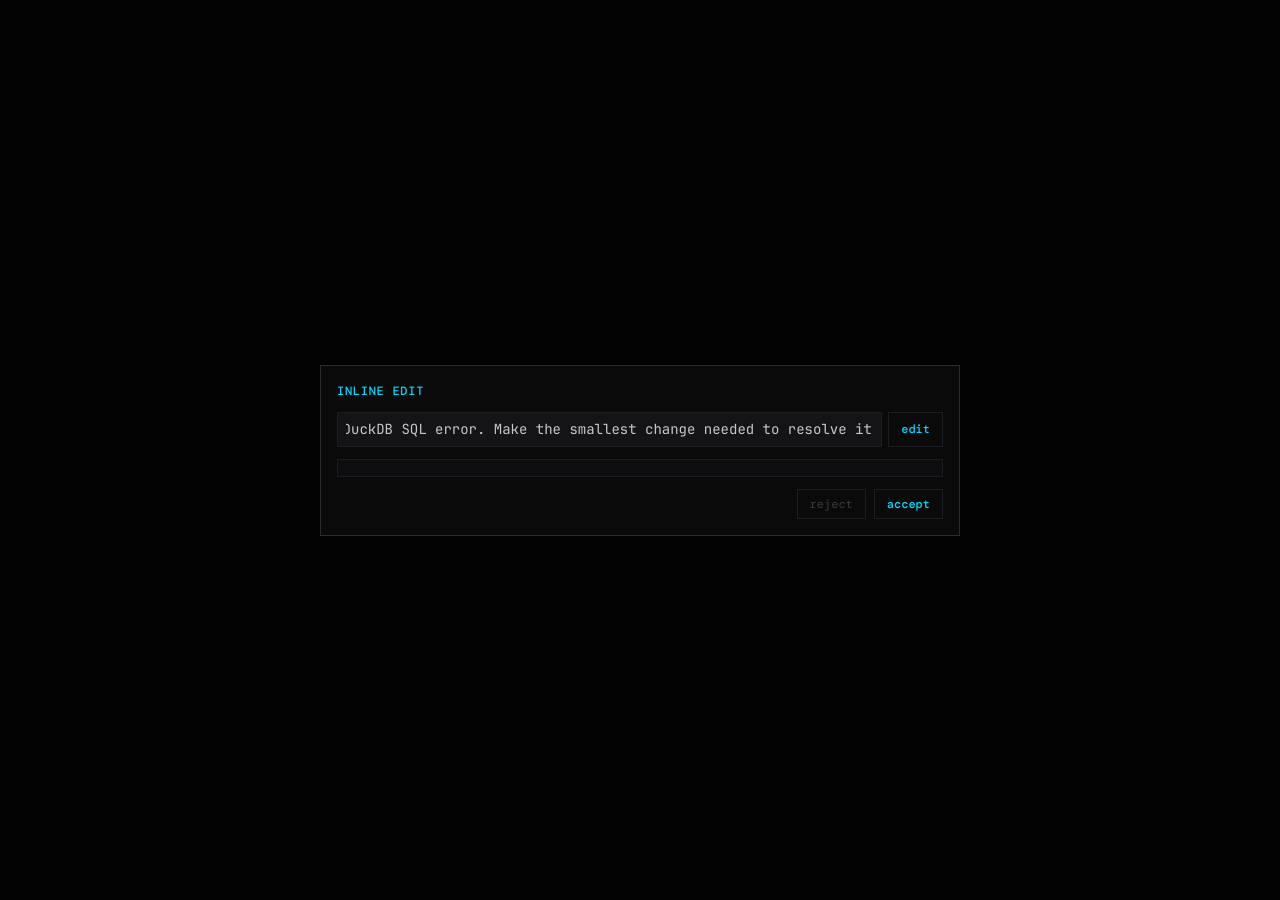
Scenario: DiffOverlay › auto-submits the AI fix flow when initial repair context is provided
Click the button "accept". click: (908, 504)
box: [874, 488, 943, 518]
(page scrolled)
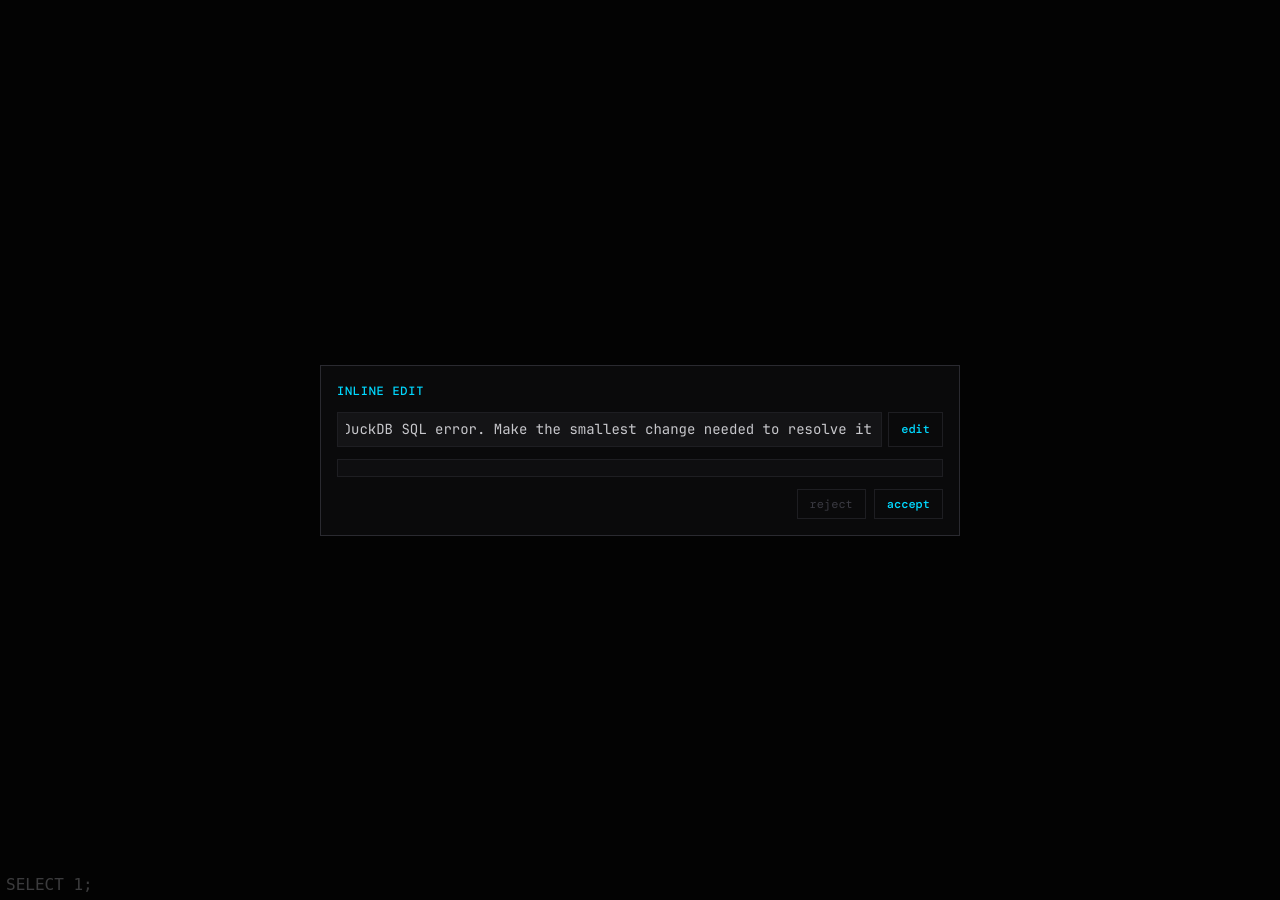
Check: the text box labelled "SELECT 1;" is shown, box [6, 875, 93, 894]
